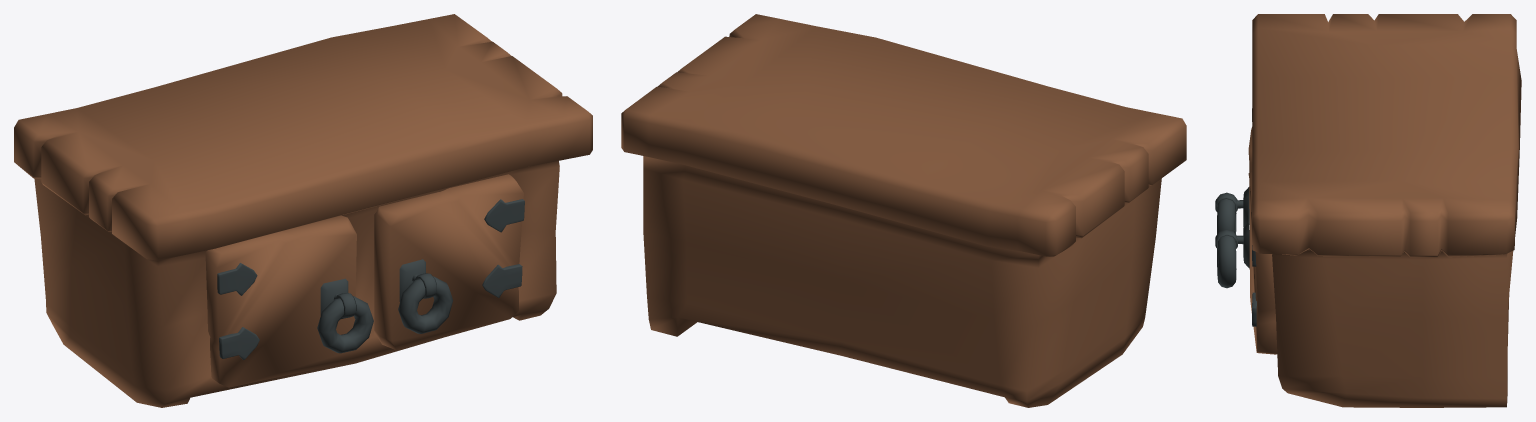
Rendered from Table.fbx.
The picture shows the model from 3 angles, left to right: view 1: azimuth 30°, elevation 25°; view 2: azimuth 150°, elevation 25°; view 3: azimuth 270°, elevation 25°; orthographic projection. The views are drawn at different scales.
Parts seen in each view (by area): view 1: Desk, Door.R, Door.L; view 2: Desk; view 3: Desk, Door.L, Door.R.
Part boxes in pixels (left/top/right/bottom): Desk: left=14, top=14, right=592, bottom=407; Door.R: left=205, top=215, right=373, bottom=387; Door.L: left=374, top=174, right=524, bottom=350; Desk: left=621, top=14, right=1186, bottom=407; Desk: left=1252, top=14, right=1521, bottom=407; Door.L: left=1215, top=172, right=1277, bottom=354; Door.R: left=1215, top=108, right=1252, bottom=234.
Size of the model in its own units: 2.46 by 1.18 by 1.54.
